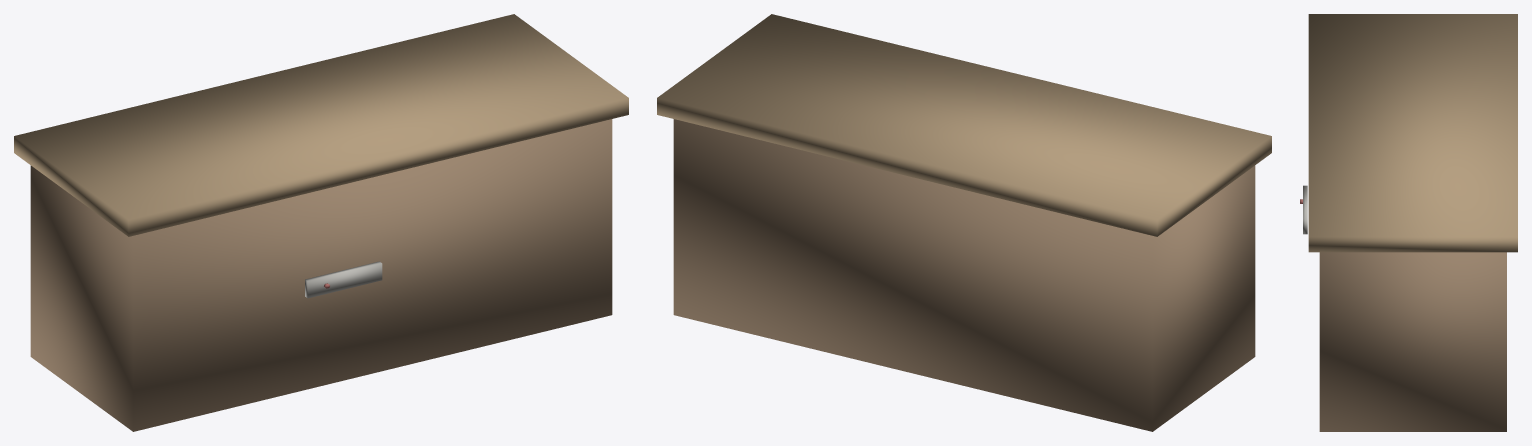
Rendered from bagging_stand__squat.glb.
The picture shows the model from 3 angles, left to right: view 1: azimuth 30°, elevation 25°; view 2: azimuth 150°, elevation 25°; view 3: azimuth 270°, elevation 25°; orthographic projection. The views are drawn at different scales.
Visible parts, largest first — view 1: world; view 2: world; view 3: world.
Part boxes in pixels (box(x1,y1,x2,y2)): world: box(14, 14, 628, 431); world: box(657, 14, 1271, 431); world: box(1300, 14, 1517, 431).
Bounding box in the file's own units: 2.07 × 0.8652 × 0.8543.
